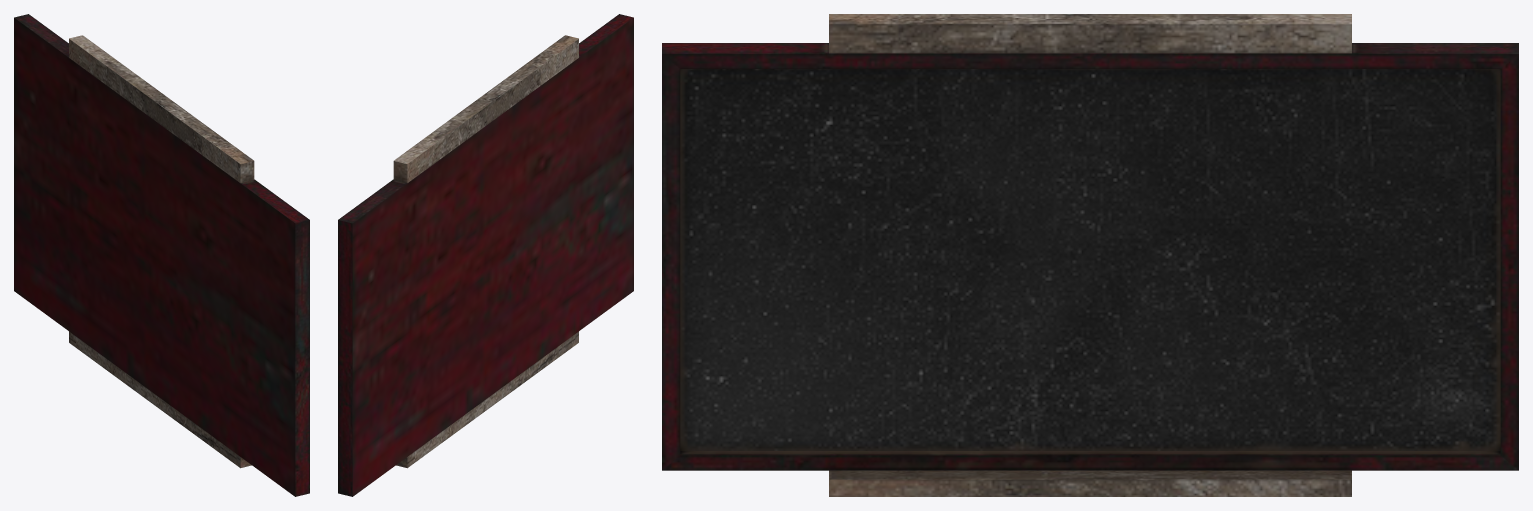
The model's file is BlackBoard.FBX.
The picture shows the model from 3 angles, left to right: view 1: azimuth 30°, elevation 25°; view 2: azimuth 150°, elevation 25°; view 3: azimuth 270°, elevation 25°; orthographic projection. The views are drawn at different scales.
Parts seen in each view (by area): view 1: BlackBoard; view 2: BlackBoard; view 3: BlackBoard.
Boxes of the visible parts, left/top/right/bottom form: BlackBoard: left=14, top=14, right=309, bottom=496; BlackBoard: left=338, top=14, right=633, bottom=496; BlackBoard: left=662, top=14, right=1518, bottom=496.
Bounding box in the file's own units: 12 × 130 × 218.
